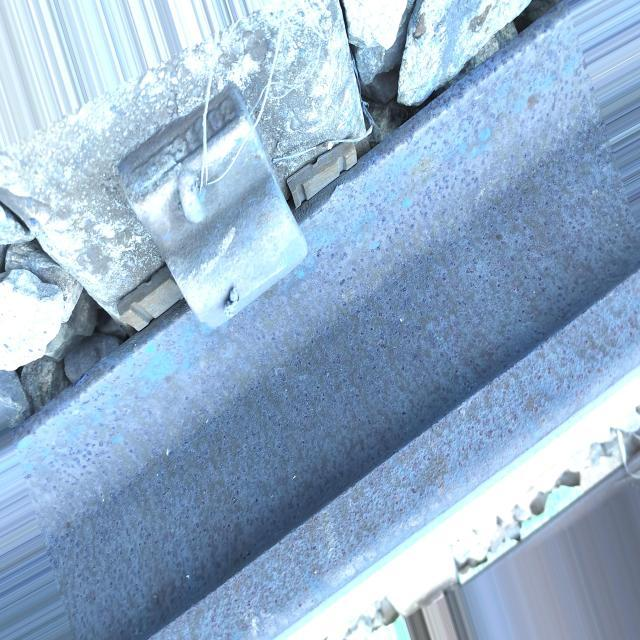Missing Fastener: (107, 75, 319, 341)
